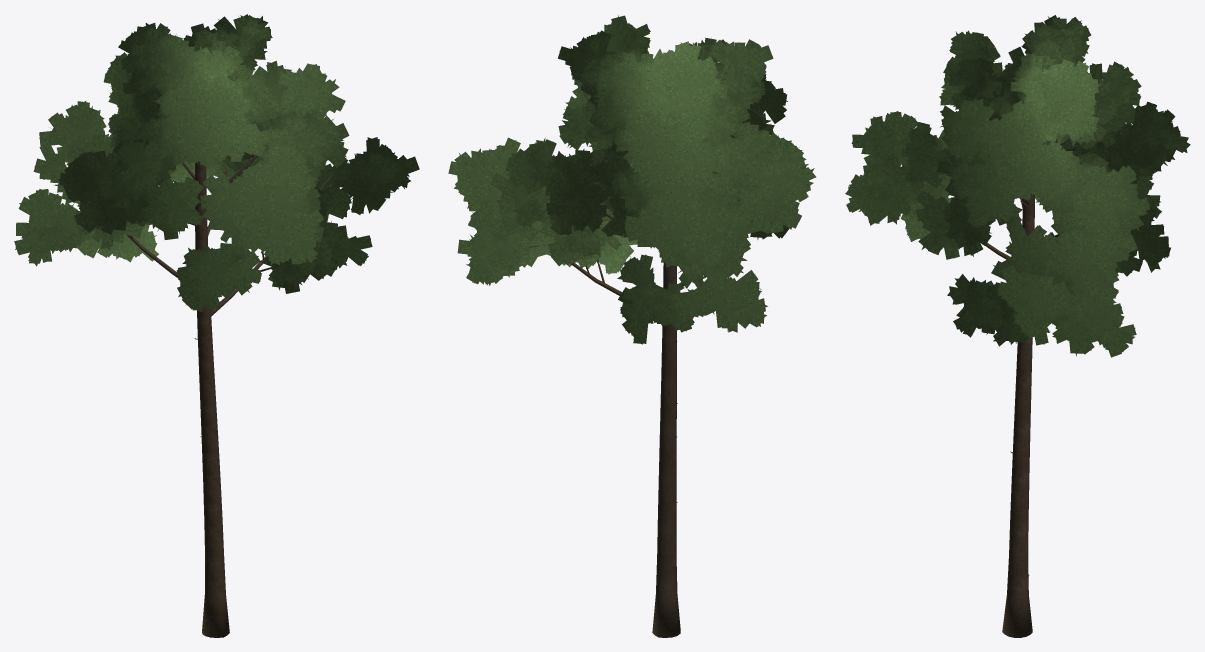
Rendered from pine_open_v02.fbx.
The picture shows the model from 3 angles, left to right: view 1: azimuth 30°, elevation 25°; view 2: azimuth 150°, elevation 25°; view 3: azimuth 270°, elevation 25°; orthographic projection. The views are drawn at different scales.
Parts seen in each view (by area): view 1: pine_open_v02; view 2: pine_open_v02; view 3: pine_open_v02.
Boxes of the visible parts, x1,y1,x2,y2 form: pine_open_v02: [14, 14, 419, 637]; pine_open_v02: [448, 15, 816, 637]; pine_open_v02: [845, 15, 1190, 637].
Bounding box in the file's own units: 1414 × 1198 × 2277.
2 materials, 2 textured.
